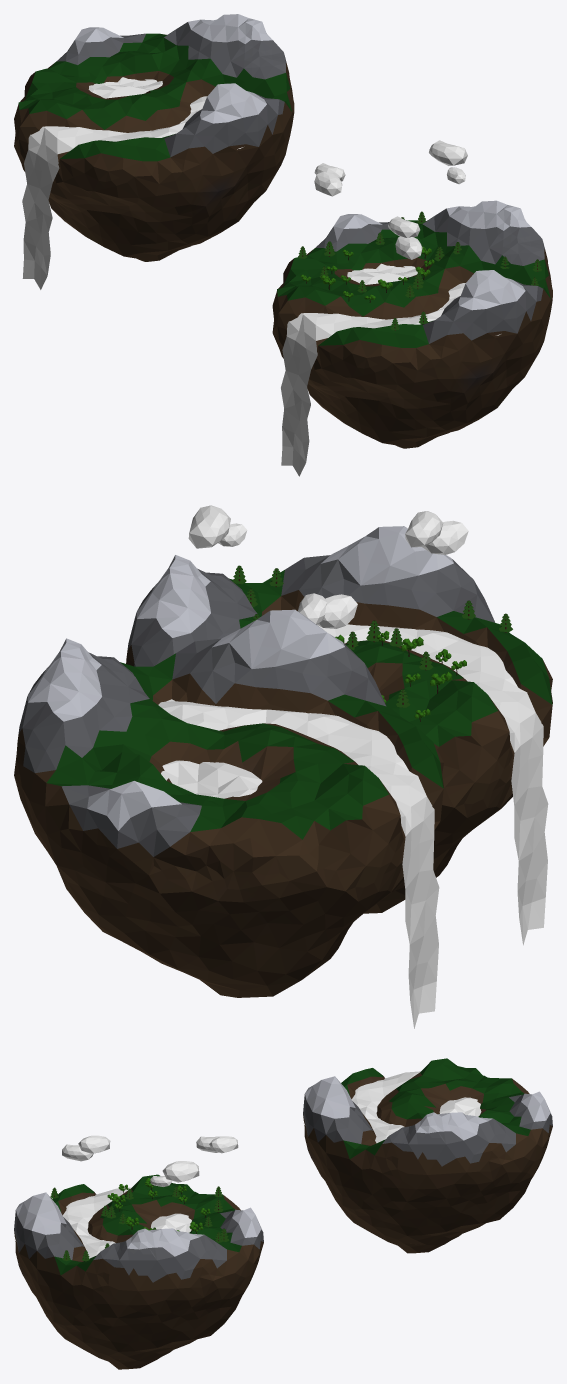
File: LowPolyFloatingIsland.fbx
3 renders of one model, top to bottom at view 1: azimuth 30°, elevation 25°; view 2: azimuth 150°, elevation 25°; view 3: azimuth 270°, elevation 25°, orthographic. The views are drawn at different scales.
Parts seen in each view (by area): view 1: Icosphere.014, Icosphere, Plane.018, Plane, Icosphere.015; view 2: Icosphere.014, Icosphere, Plane.018, Plane, Icosphere.015; view 3: Icosphere.014, Icosphere, Plane.018, Icosphere.015, Plane.
Boxes of the visible parts, <box> form: Icosphere.014: <box>14,14,294,261</box>; Icosphere: <box>272,200,552,448</box>; Plane.018: <box>22,77,243,289</box>; Plane: <box>281,263,500,476</box>; Icosphere.015: <box>314,140,467,259</box>; Icosphere.014: <box>14,609,443,997</box>; Icosphere: <box>126,526,552,913</box>; Plane.018: <box>158,699,439,1028</box>; Plane: <box>317,624,548,945</box>; Icosphere.015: <box>188,505,468,628</box>; Icosphere.014: <box>303,1058,552,1253</box>; Icosphere: <box>14,1174,263,1369</box>; Plane.018: <box>303,1071,481,1143</box>; Icosphere.015: <box>62,1135,238,1186</box>; Plane: <box>14,1187,191,1258</box>.
Size of the model in its own units: 2731 by 2233 by 4237.
